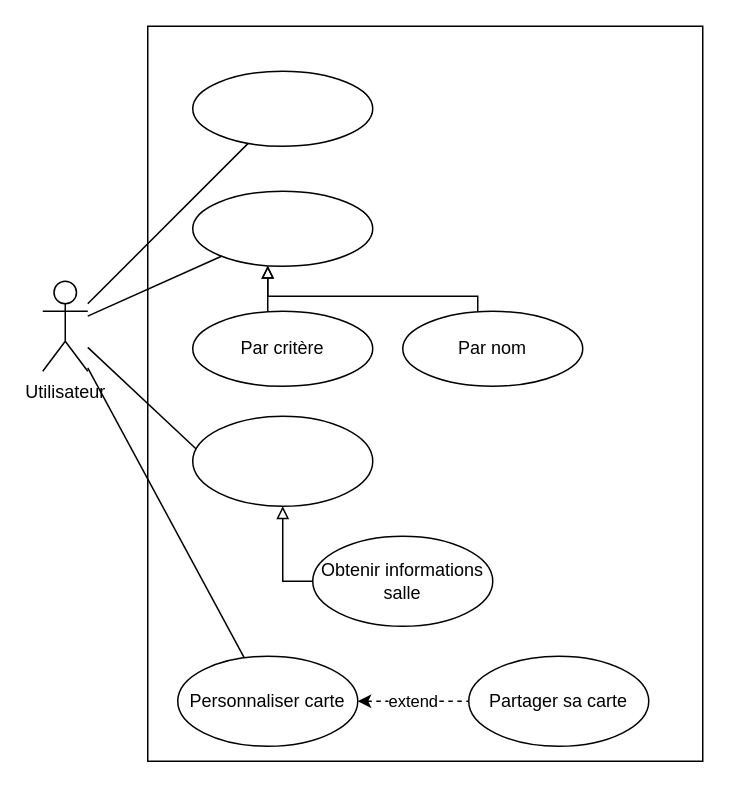
The diagram is 741 pixels wide and 800 high, and some of its shapes have lost their labels. Here are the shapes that lost their labels. From the top down, the centre of each, then its label:
the point at 282,108: S'orienter
the point at 282,228: Localiser ressource
the point at 282,460: Obtenir informations ressource
